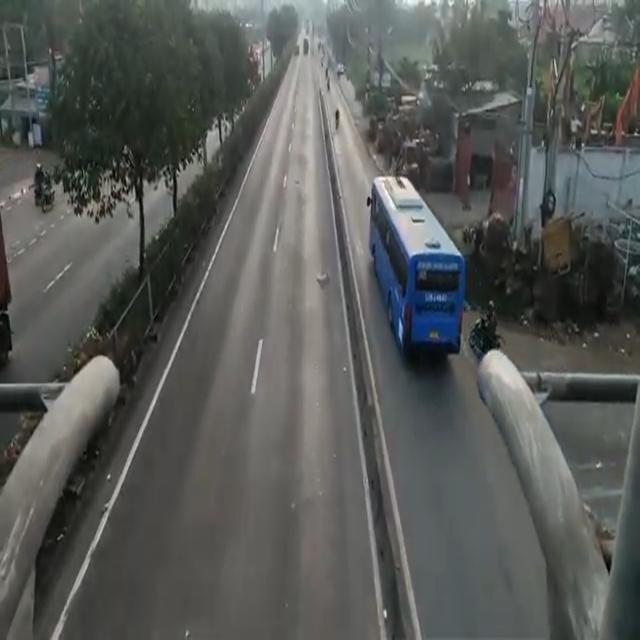bus: (369, 176, 460, 360)
